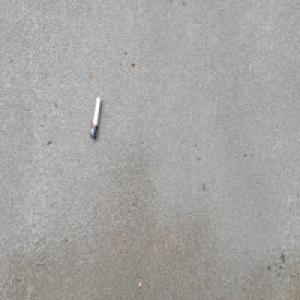Battery: (89, 94, 101, 139)
